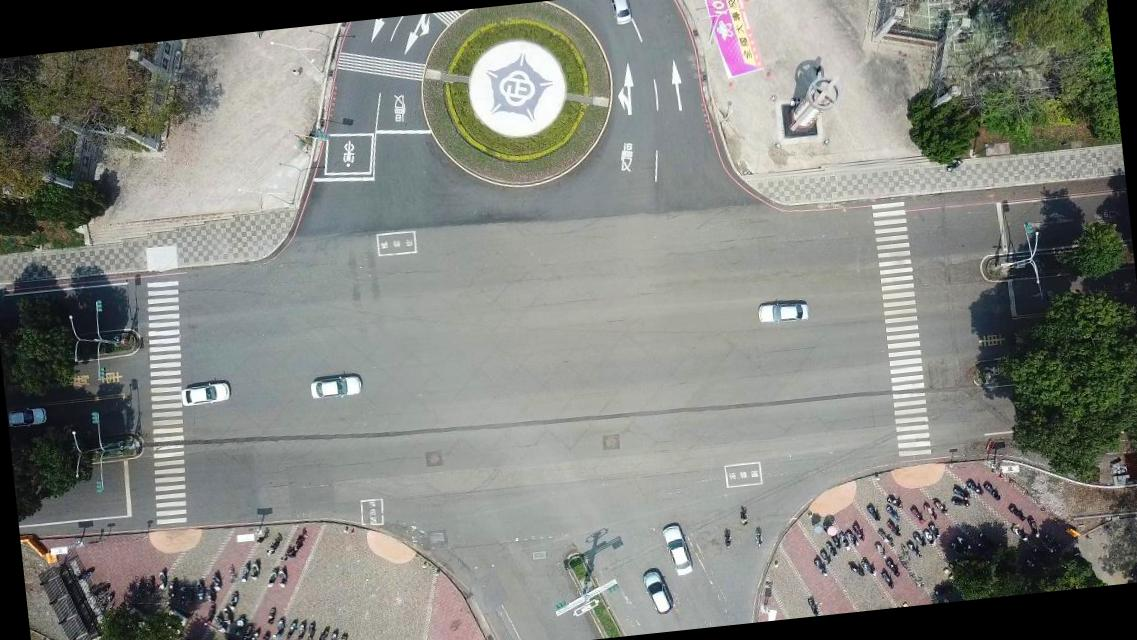vehicle: (660, 522, 693, 578), (640, 568, 676, 618), (178, 377, 235, 408), (754, 298, 810, 326), (308, 372, 362, 401), (7, 404, 50, 430), (606, 0, 634, 28)
